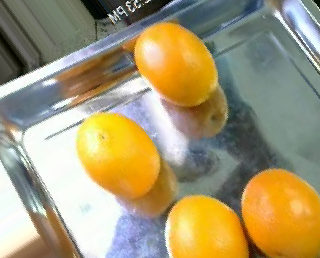Orange: (77, 113, 161, 198), (240, 167, 320, 256), (134, 22, 218, 106), (164, 194, 250, 258)
